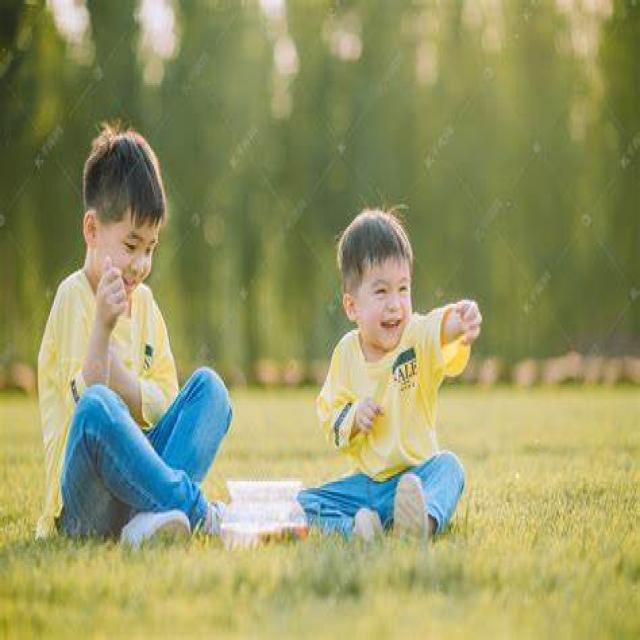sit: (18, 145, 215, 539), (302, 214, 466, 556)
